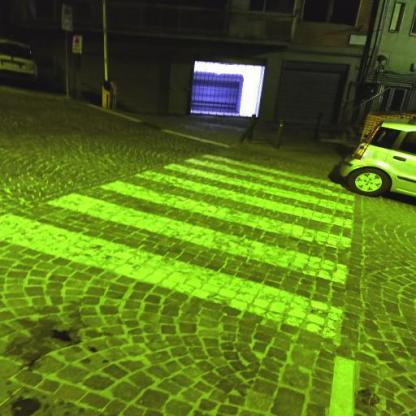crosswalk: (0, 191, 353, 341)
